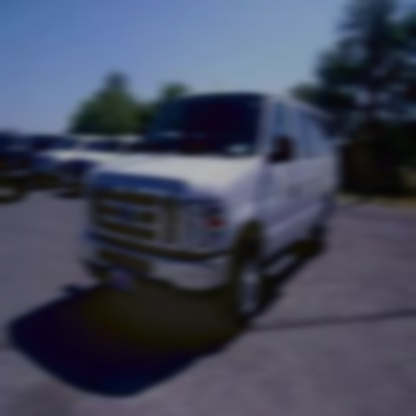Vehicle: (79, 92, 340, 328)
